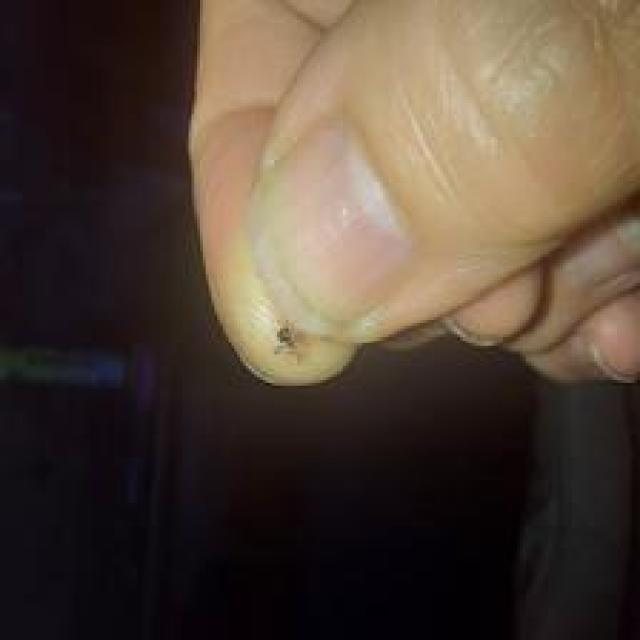Aedes albopictus: (185, 0, 640, 388)
